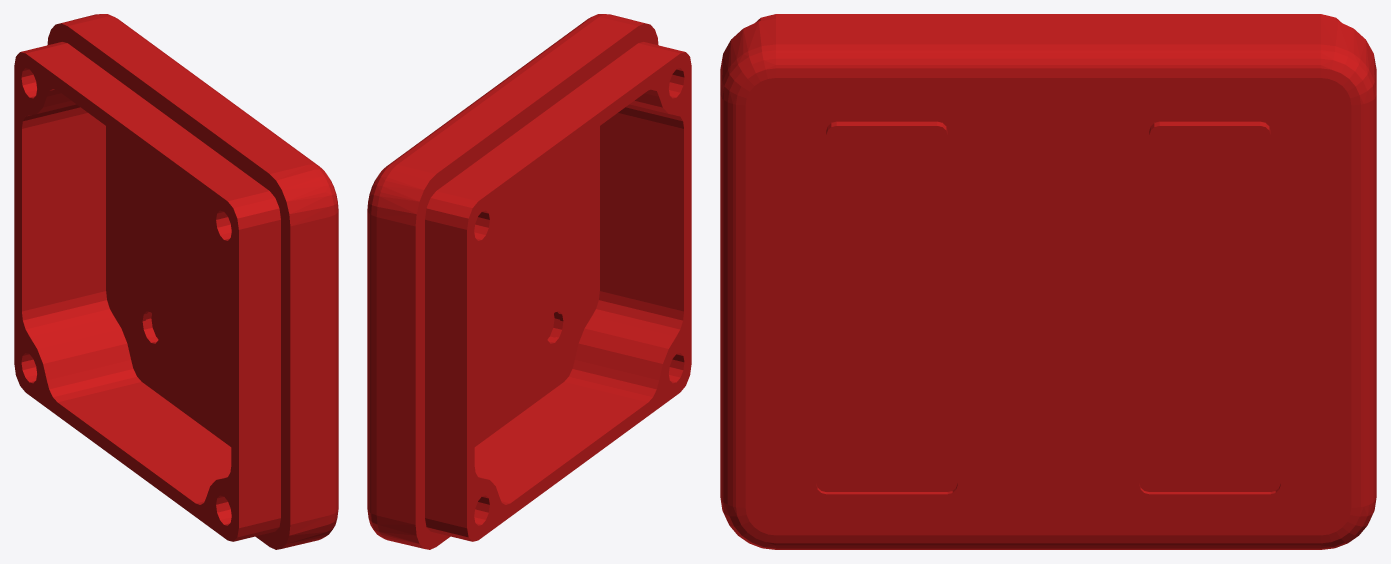
File: base_dock_link.obj
3 renders of one model, left to right at view 1: azimuth 30°, elevation 25°; view 2: azimuth 150°, elevation 25°; view 3: azimuth 270°, elevation 25°, orthographic. The views are drawn at different scales.
Visible parts, largest first — view 1: base_dock_link; view 2: base_dock_link; view 3: base_dock_link.
Boxes of the visible parts, x1=… form: base_dock_link: x1=14, y1=14, x2=338, y2=549; base_dock_link: x1=367, y1=14, x2=691, y2=549; base_dock_link: x1=720, y1=14, x2=1376, y2=549.
Bounding box in the file's own units: 0.0155 × 0.055 × 0.065.
